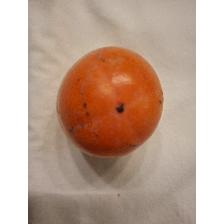Kaki: (51, 40, 169, 162)
